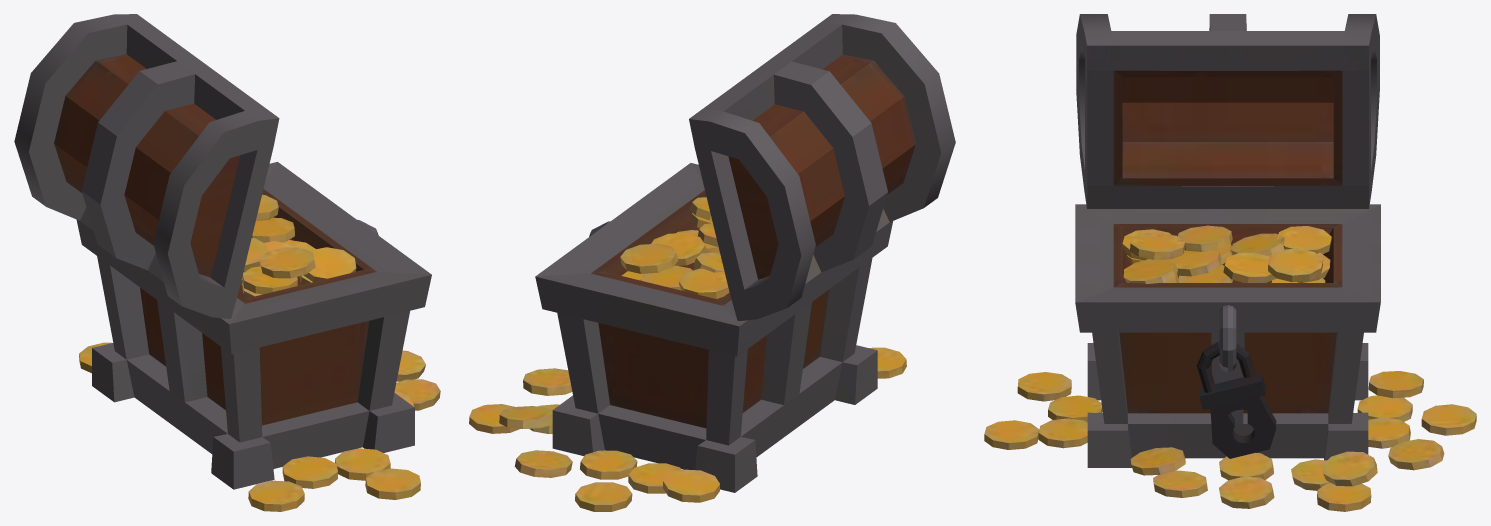
File: treasure_chest.glb
3 views of the same model, side by side, from view 1: azimuth 30°, elevation 25°; view 2: azimuth 150°, elevation 25°; view 3: azimuth 270°, elevation 25° (orthographic).
Visible parts, largest first — view 1: polySurface76; view 2: polySurface76; view 3: polySurface76.
Part boxes in pixels (x1,y1,x2,y2): polySurface76: (14, 14, 440, 511); polySurface76: (469, 14, 955, 511); polySurface76: (984, 14, 1476, 511).
Bounding box in the file's own units: 1.66 × 1.67 × 2.07.
Materials: 1 (1 with a texture image).
